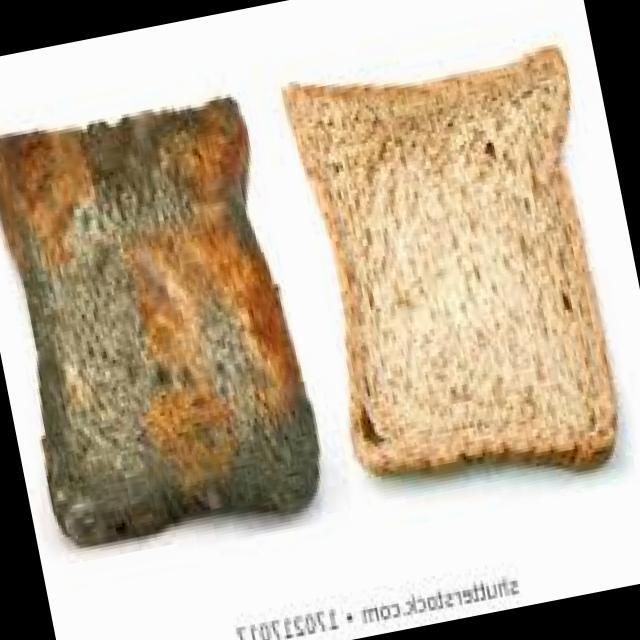organic: (285, 56, 640, 486), (0, 92, 322, 551)
